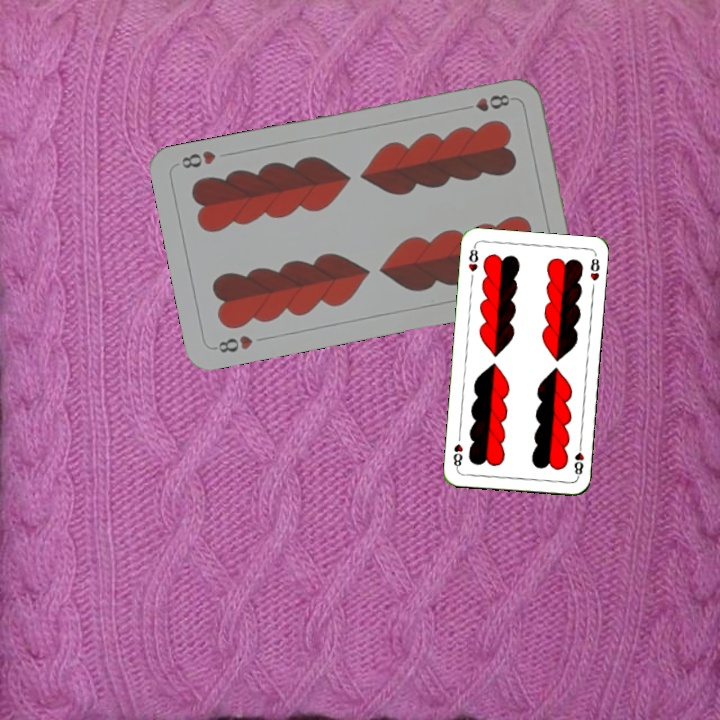H8: (210, 331, 256, 356), (471, 90, 516, 114), (570, 439, 586, 480), (464, 242, 481, 274)
